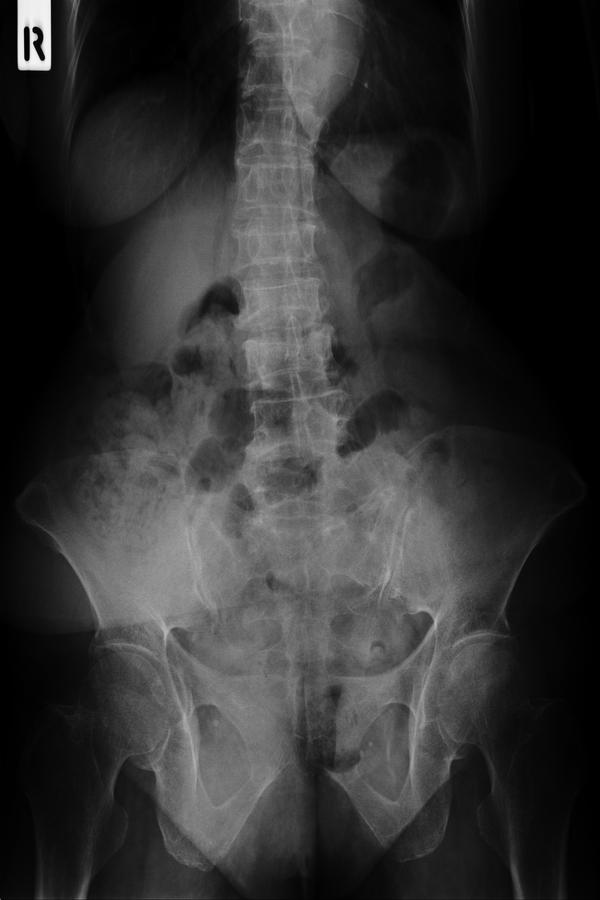lumbar scoliosis: (225, 129, 358, 487)
